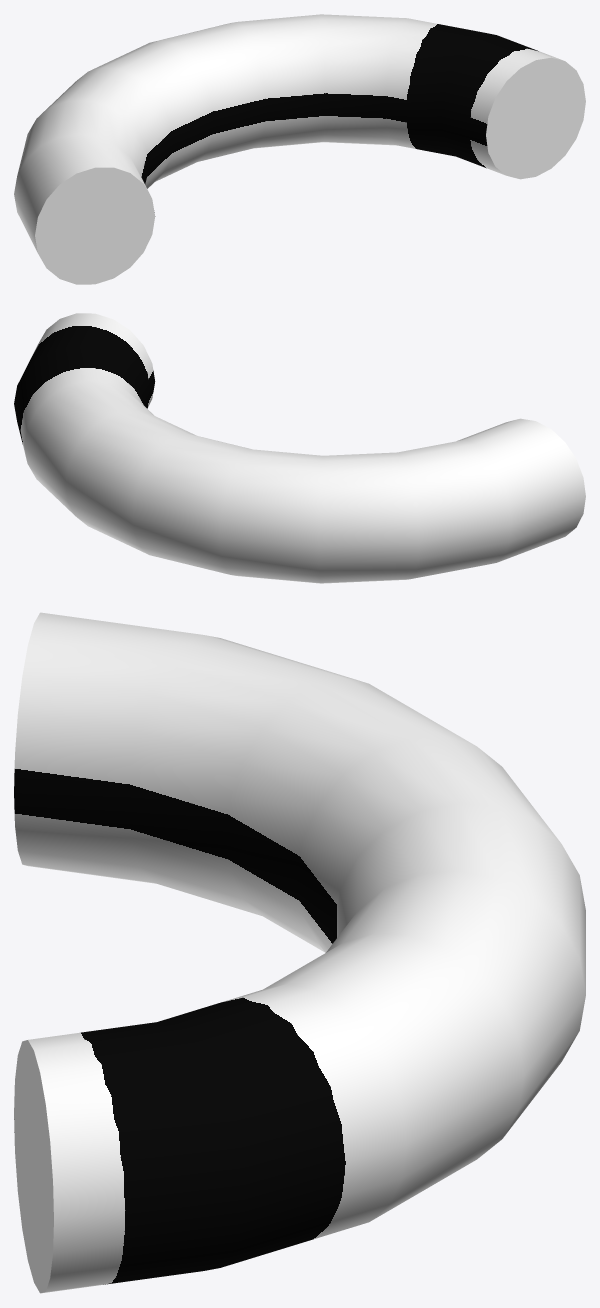
The model's file is waveOBJ.obj.
The picture shows the model from 3 angles, top to bottom: view 1: azimuth 30°, elevation 25°; view 2: azimuth 150°, elevation 25°; view 3: azimuth 270°, elevation 25°; orthographic projection. The views are drawn at different scales.
Parts seen in each view (by area): view 1: pTorus1; view 2: pTorus1; view 3: pTorus1.
Boxes of the visible parts, x1,y1,x2,y2 form: pTorus1: (14, 14, 585, 284); pTorus1: (14, 313, 585, 583); pTorus1: (14, 612, 585, 1293).
Size of the model in its own units: 2.47 by 0.5 by 1.12.
